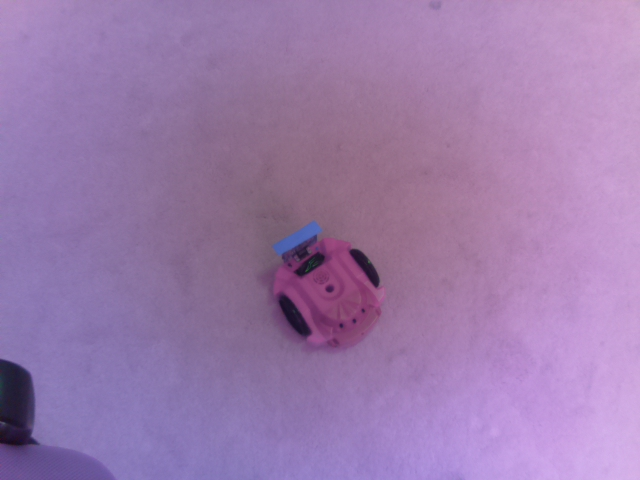board: (273, 215, 322, 264)
chassis: (273, 214, 388, 357)
